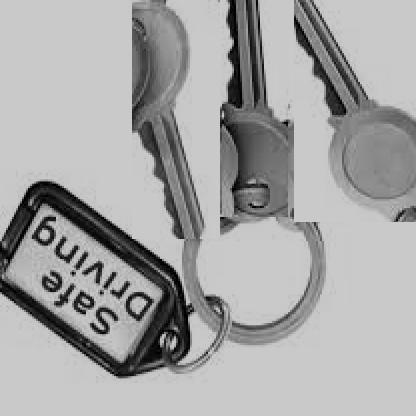key: (294, 0, 416, 222), (132, 0, 220, 239), (222, 0, 288, 217)
